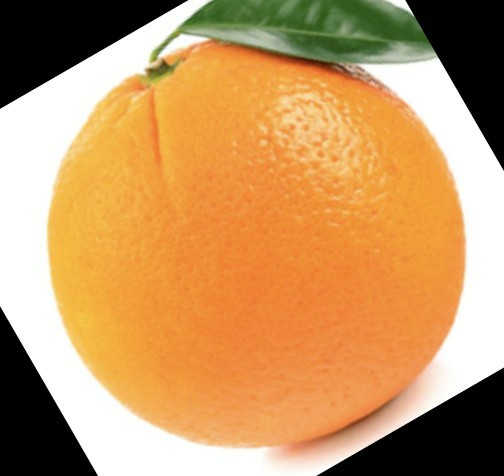fresh_orange: (51, 42, 466, 450)
